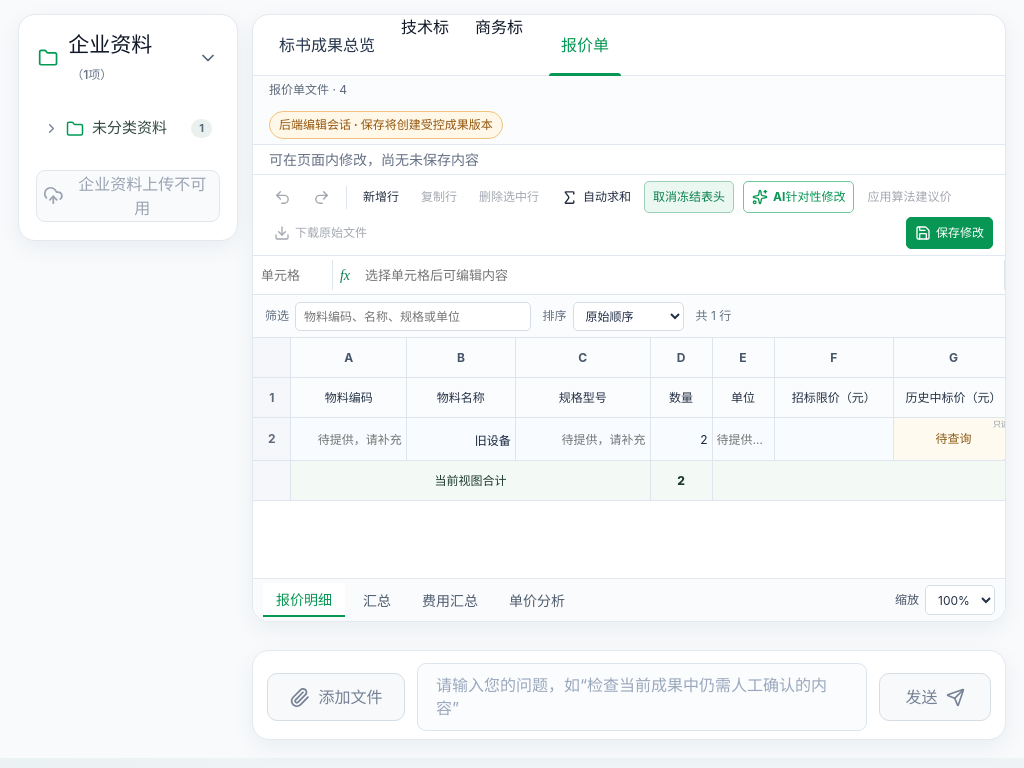
DeliverableEditorPage › shows missing backend quote fields as unavailable and blocks saving until completed
The width and height of the screenshot is (1024, 768).
expect the number field named "旧设备招标限价（元）" is not empty: met, box [774,418,893,460]
Click the button "保存修改" at point(950, 233), box [906,217,993,249]
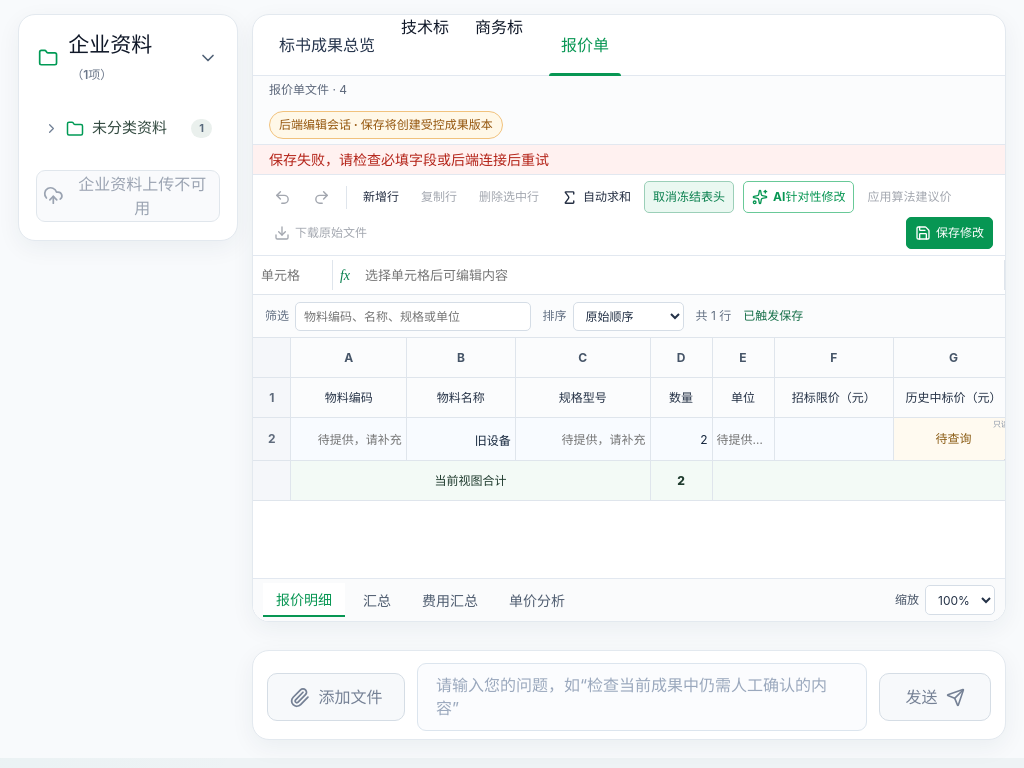
expect the message shows "保存失败，请检查必填字段": met, box [269,151,549,168]
